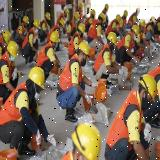Helmet: (71, 122, 102, 160), (139, 71, 156, 103), (28, 66, 46, 90), (7, 41, 18, 59), (78, 41, 90, 57), (107, 31, 117, 46), (3, 28, 11, 46), (50, 31, 60, 44), (78, 23, 86, 35), (132, 25, 139, 37), (34, 18, 40, 31), (98, 11, 105, 22), (115, 14, 122, 25), (139, 18, 146, 28), (23, 14, 29, 25), (45, 12, 51, 22), (60, 19, 66, 29), (74, 12, 80, 21), (123, 9, 128, 17), (91, 9, 96, 16), (64, 8, 68, 16), (105, 3, 109, 11), (79, 3, 83, 10)
Vest: (106, 88, 148, 156), (0, 82, 34, 127), (60, 54, 82, 93), (36, 42, 54, 72), (94, 43, 110, 75), (0, 54, 14, 88), (118, 29, 133, 54), (68, 31, 81, 57), (88, 18, 101, 40), (23, 28, 36, 48)
